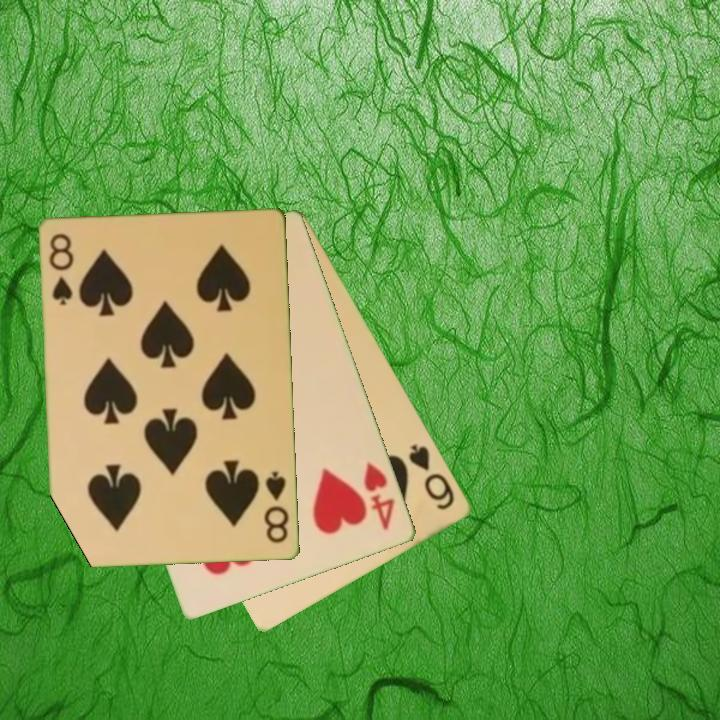4h: (360, 458, 399, 534)
6s: (405, 440, 458, 514)
8s: (261, 468, 292, 547), (46, 230, 77, 309)
